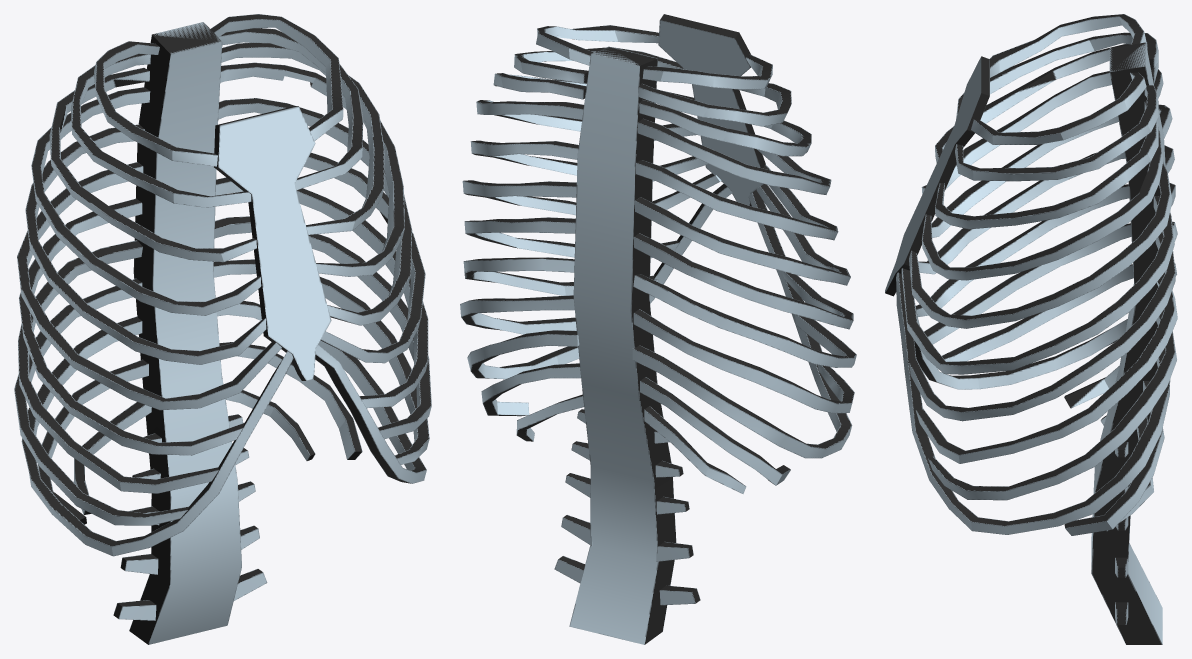
The model's file is RibCage.fbx.
3 views of the same model, side by side, from view 1: azimuth 30°, elevation 25°; view 2: azimuth 150°, elevation 25°; view 3: azimuth 270°, elevation 25° (orthographic). The views are drawn at different scales.
Visible parts, largest first — view 1: Ribcage; view 2: Ribcage; view 3: Ribcage.
Boxes of the visible parts, left/top/right/bottom form: Ribcage: left=14, top=14, right=431, bottom=644; Ribcage: left=460, top=14, right=856, bottom=644; Ribcage: left=885, top=14, right=1177, bottom=644.
Size of the model in its own units: 10.92 by 7.6 by 16.39.
